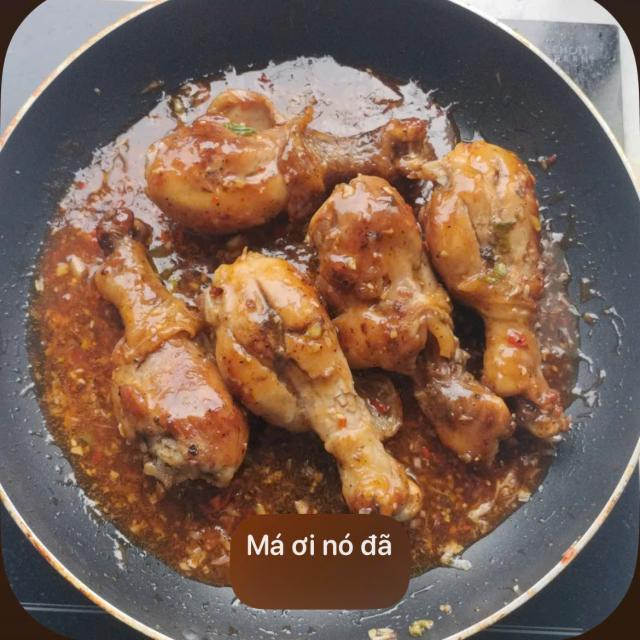ga_chien: (139, 138, 522, 484)
